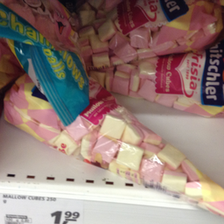candy: (6, 66, 223, 209), (81, 15, 223, 115)
